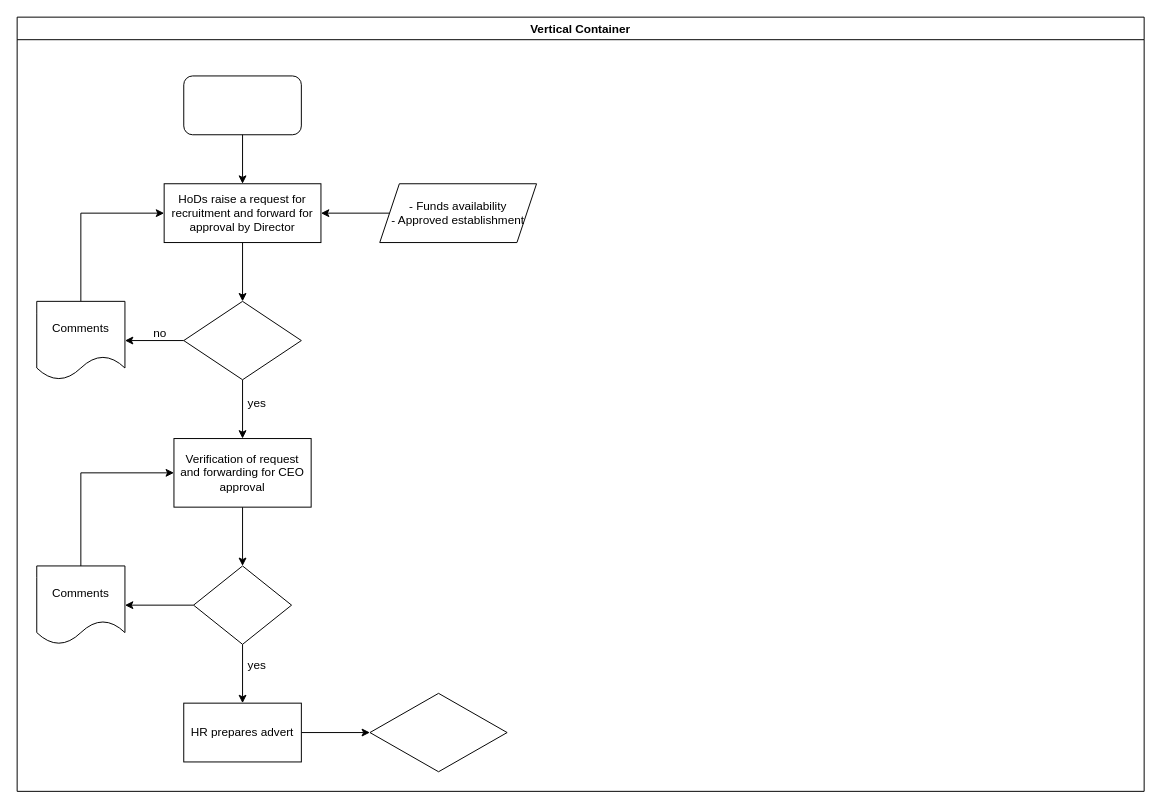
Image size: 1161x809. Some labels were removed from this diagram. Here are the shapes that lost their labels. From the top down, the centre of each, then its label:
At pixel 242 105: "Start".
At pixel 242 340: "Approved by Director?".
At pixel 242 604: "CEO Approved?".
At pixel 438 732: "Advert Approved (CEO/DCS)?".
